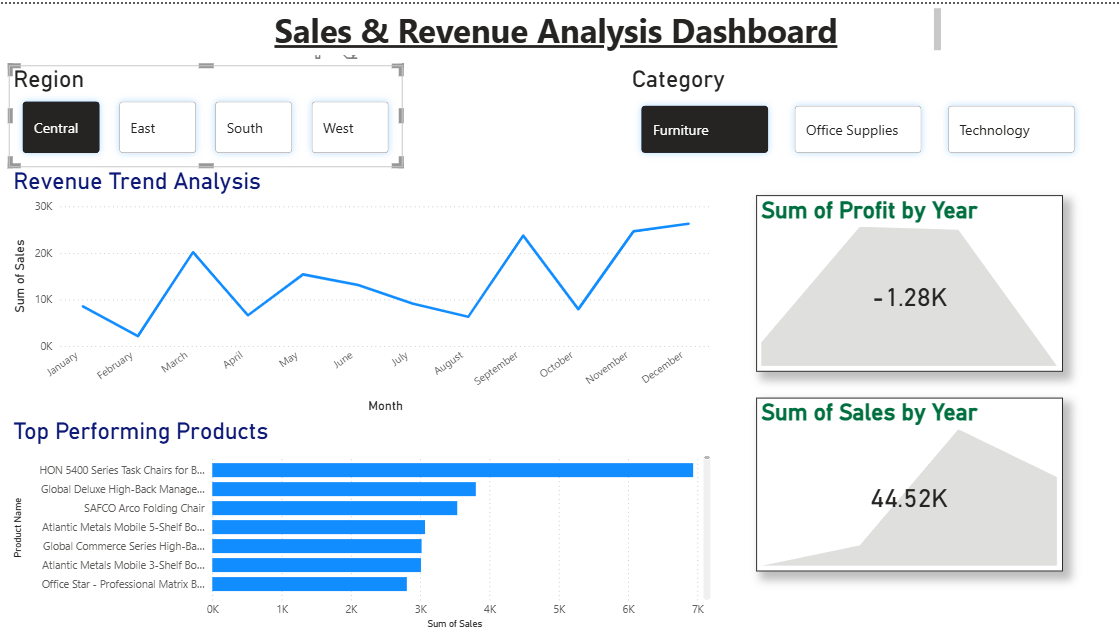

The page's visual inventory and layout, read from the dashboard file:
{"tool":"powerbi","page":{"name":"Page 1","canvas":[1280,720],"ordinal":0},"visuals":[{"type":"kpi","fields":{"Indicator":["Sum(Sample - Superstore.Sales)"],"TrendLine":["Sample - Superstore.Order Date.Variation.Date Hierarchy.Year"]},"box":[864.3,450,350,198.6],"z":0},{"type":"kpi","fields":{"Indicator":["Sum(Sample - Superstore.Profit)"],"TrendLine":["Sample - Superstore.Order Date.Variation.Date Hierarchy.Year"]},"box":[864.3,218.6,350,201.4],"z":1000},{"type":"lineChart","title":"Revenue Trend Analysis","fields":{"Category":["Sample - Superstore.Order Date.Variation.Date Hierarchy.Year","Sample - Superstore.Order Date.Variation.Date Hierarchy.Quarter","Sample - Superstore.Order Date.Variation.Date Hierarchy.Month"],"Y":["Sum(Sample - Superstore.Sales)"]},"box":[10,187.1,807.1,285.7],"z":2000},{"type":"clusteredBarChart","title":"Top Performing Products","fields":{"Category":["Sample - Superstore.Product Name"],"Y":["Sum(Sample - Superstore.Sales)"]},"box":[10,472.9,807.1,247.1],"z":2001},{"type":"advancedSlicerVisual","fields":{"Values":["Sample - Superstore.Region"]},"box":[10,70,450,117.1],"z":2002},{"type":"advancedSlicerVisual","fields":{"Values":["Sample - Superstore.Category"]},"box":[717.1,70,527.1,117.1],"z":2003},{"type":"textbox","box":[198.6,0,881.4,58.6],"z":2005}]}

Visuals, with their boxes in screenshot pixels (x1, y1, x2, y2), scaled from the page's 1280x720 canvas onto the 1119x633 screenshot:
kpi - Sum(Sample - Superstore.Sales) x Sample - Superstore.Order Date.Variation.Date Hierarchy.Year: left=756, top=396, right=1062, bottom=570
kpi - Sum(Sample - Superstore.Profit) x Sample - Superstore.Order Date.Variation.Date Hierarchy.Year: left=756, top=192, right=1062, bottom=369
"Revenue Trend Analysis" lineChart: left=9, top=164, right=714, bottom=416
"Top Performing Products" clusteredBarChart: left=9, top=416, right=714, bottom=632
advancedSlicerVisual - Sample - Superstore.Region: left=9, top=62, right=402, bottom=164
advancedSlicerVisual - Sample - Superstore.Category: left=627, top=62, right=1088, bottom=164
textbox: left=174, top=0, right=944, bottom=52
